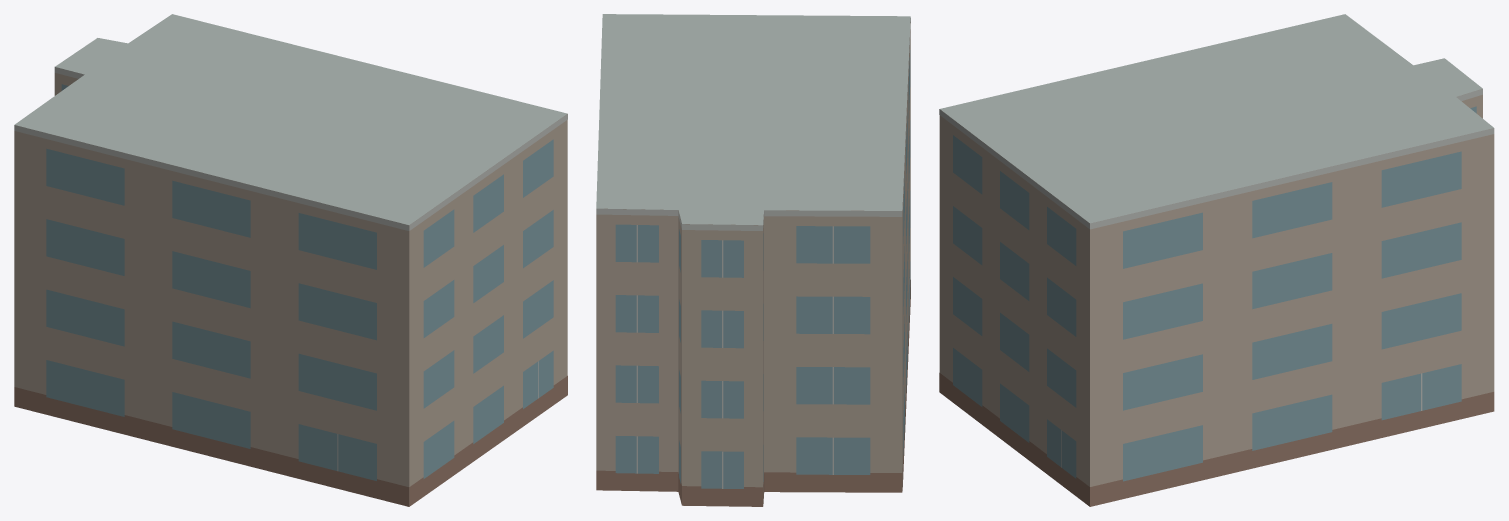
Rendered from survey-upis-32944231.glb.
3 views of the same model, side by side, from view 1: azimuth 30°, elevation 25°; view 2: azimuth 150°, elevation 25°; view 3: azimuth 270°, elevation 25° (orthographic).
Visible parts, largest first — view 1: survey-upis-32944231.tmp; view 2: survey-upis-32944231.tmp; view 3: survey-upis-32944231.tmp.
Boxes of the visible parts, box(x1,y1,x2,y2) form: survey-upis-32944231.tmp: box(14, 14, 567, 506); survey-upis-32944231.tmp: box(596, 14, 910, 506); survey-upis-32944231.tmp: box(939, 14, 1494, 506).
Size of the model in its own units: 18.32 by 11.55 by 20.5.
